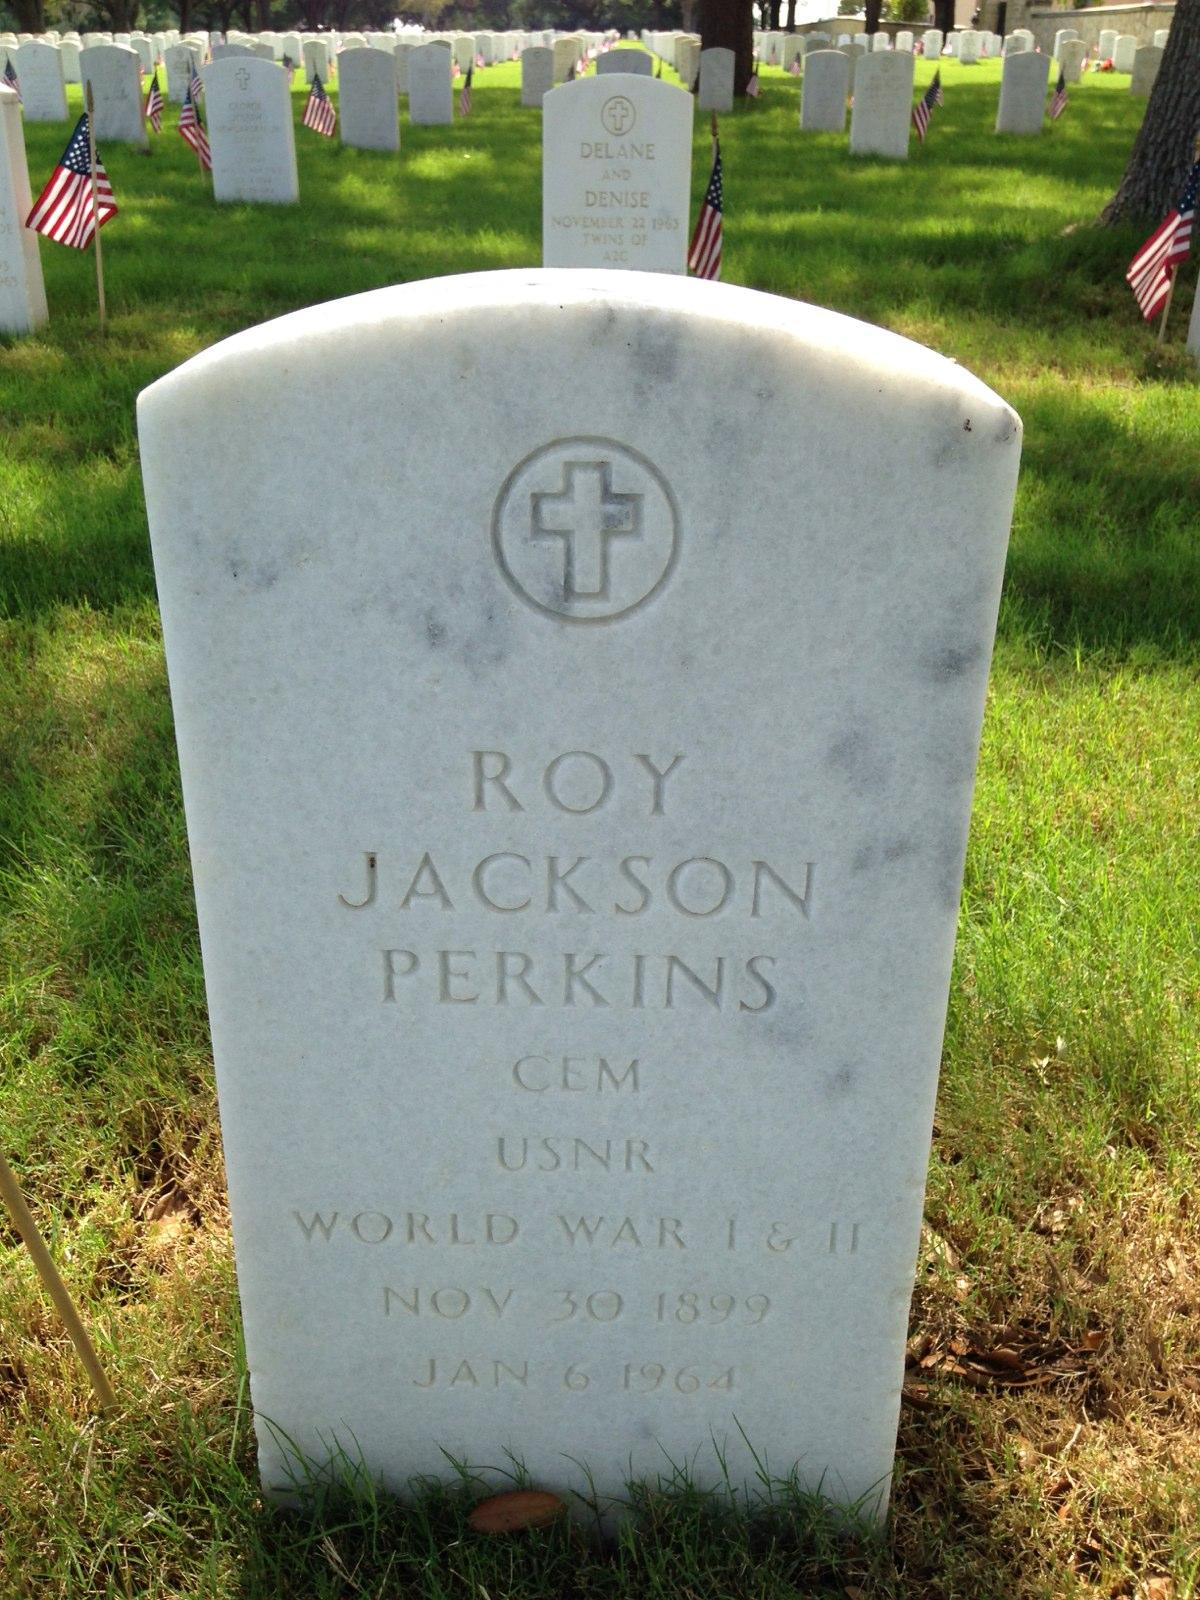military: (134, 265, 1027, 1526)
